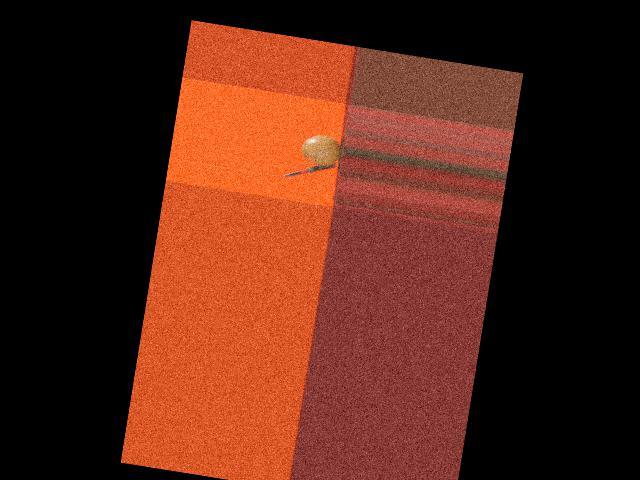egg: (300, 132, 342, 168)
